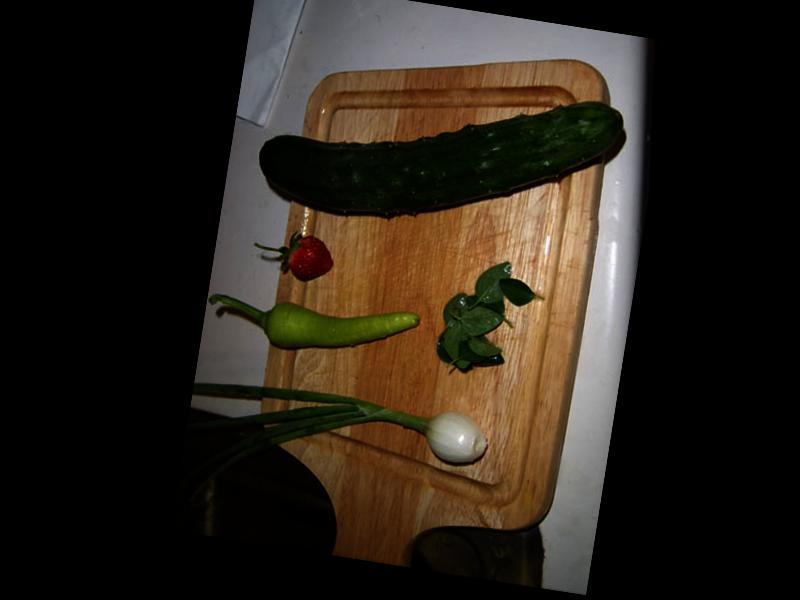Cucumber: (254, 51, 625, 252)
